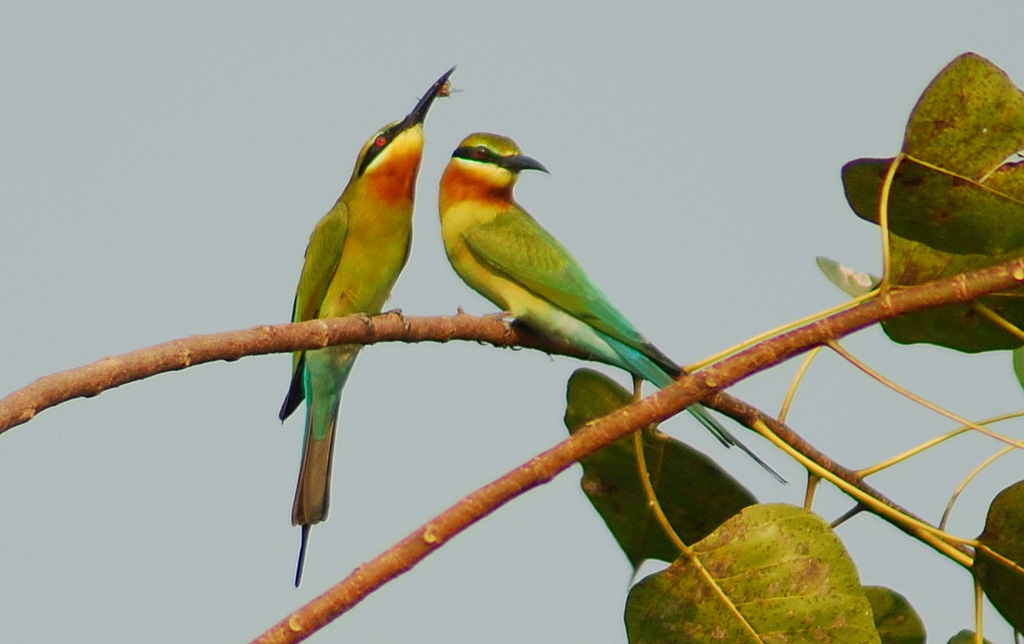Bird: (438, 132, 793, 487), (280, 65, 464, 588)
